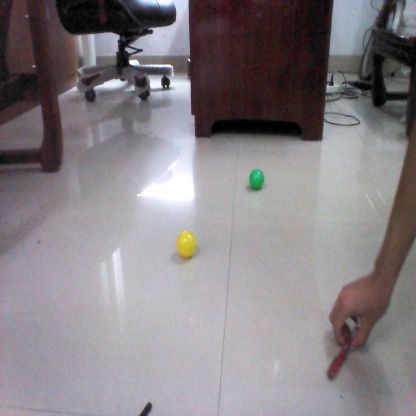ball: (176, 229, 197, 258), (244, 165, 264, 190)
pen: (329, 327, 360, 380)
